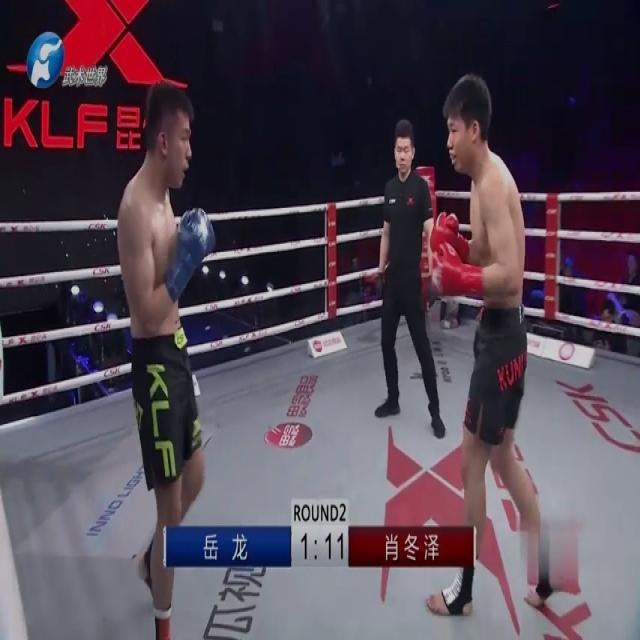fight: (116, 64, 545, 639)
non-fight: (367, 114, 442, 438)
